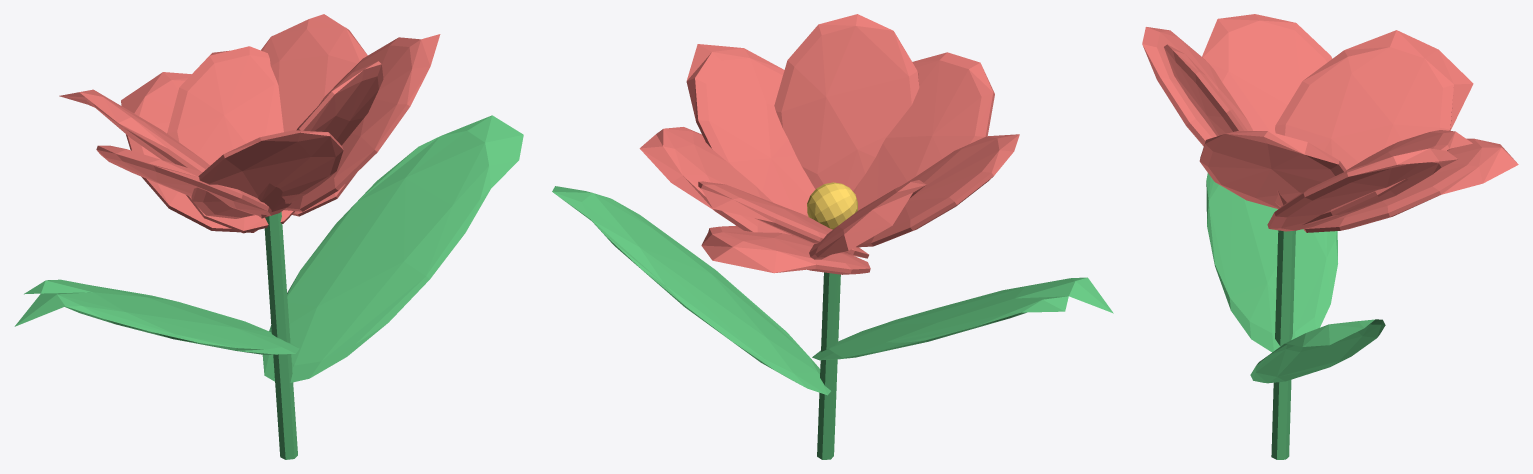
The model's file is redflower_lod1.glb.
The picture shows the model from 3 angles, left to right: view 1: azimuth 30°, elevation 25°; view 2: azimuth 150°, elevation 25°; view 3: azimuth 270°, elevation 25°; orthographic projection. The views are drawn at different scales.
Visible parts, largest first — view 1: group341342680, group1800673276; view 2: group341342680, group1800673276, group1492198814; view 3: group341342680, group1800673276.
Boxes of the visible parts, <box> form: group341342680: <box>59,14,440,233</box>; group1800673276: <box>14,115,523,459</box>; group341342680: <box>639,14,1019,274</box>; group1800673276: <box>552,186,1113,459</box>; group1492198814: <box>807,182,857,229</box>; group341342680: <box>1142,14,1518,232</box>; group1800673276: <box>1206,173,1385,459</box>.
Size of the model in its own units: 0.7004 by 0.514 by 0.4206.
